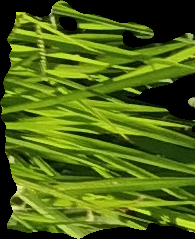grass: (1, 1, 194, 237)
